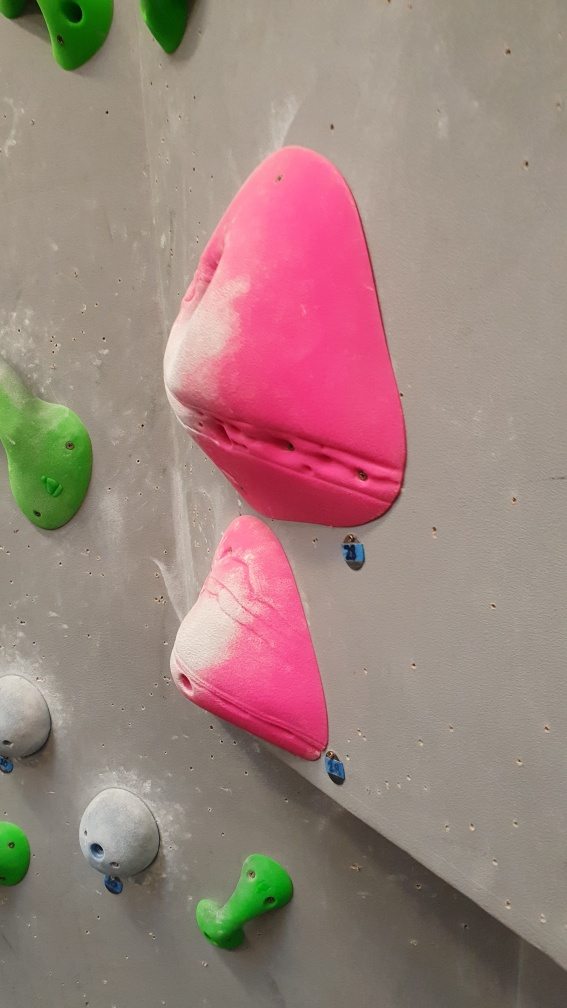Hand Start: (334, 528, 371, 573), (325, 747, 349, 792), (101, 870, 122, 896), (1, 758, 11, 776)
Pocket: (160, 143, 412, 534)
Sloper: (79, 785, 162, 875), (1, 673, 54, 755)
